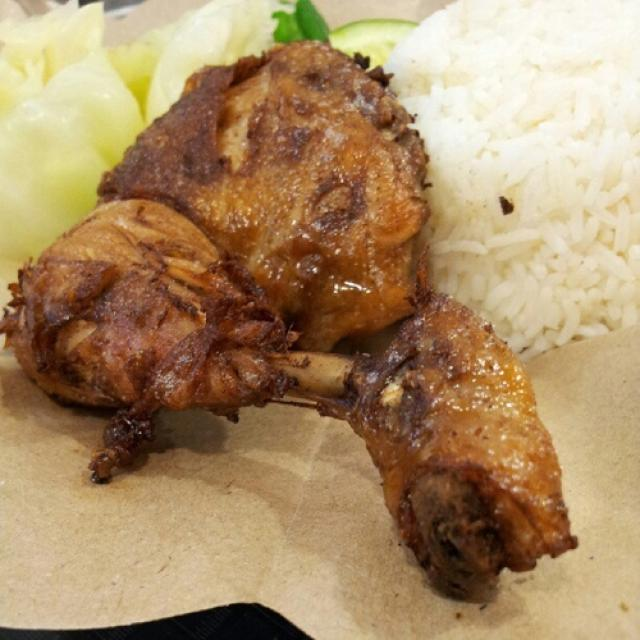鸡肉料理 含炸鸡: (26, 37, 602, 616)
